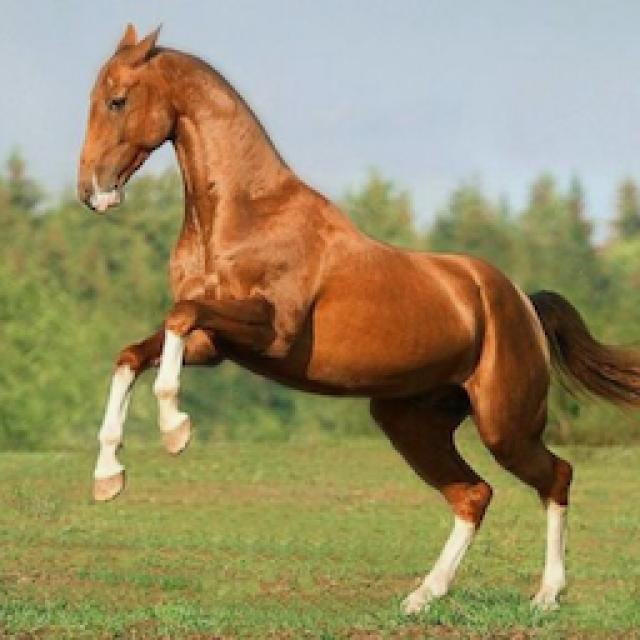Horse: (68, 18, 638, 622)
